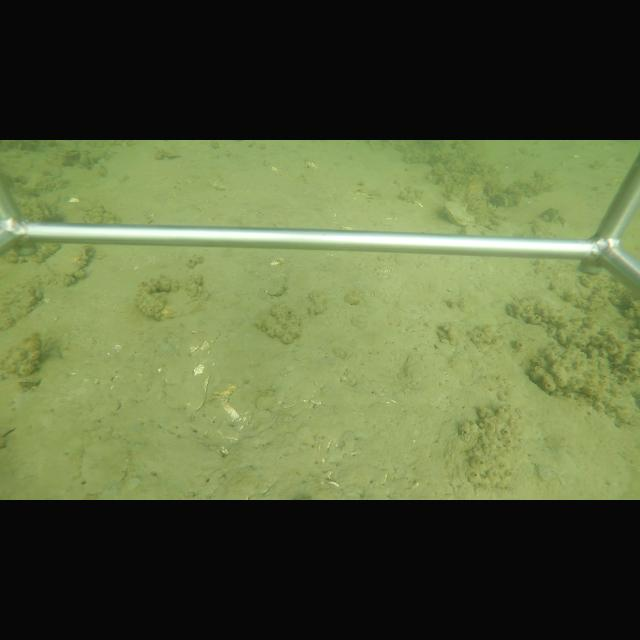Oyster-Closed: (441, 197, 480, 228), (264, 274, 290, 300)
